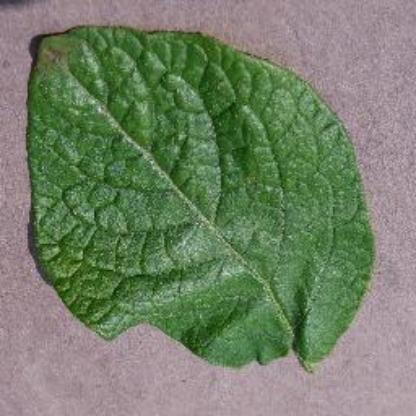Healthy-plant: (21, 19, 387, 393)
